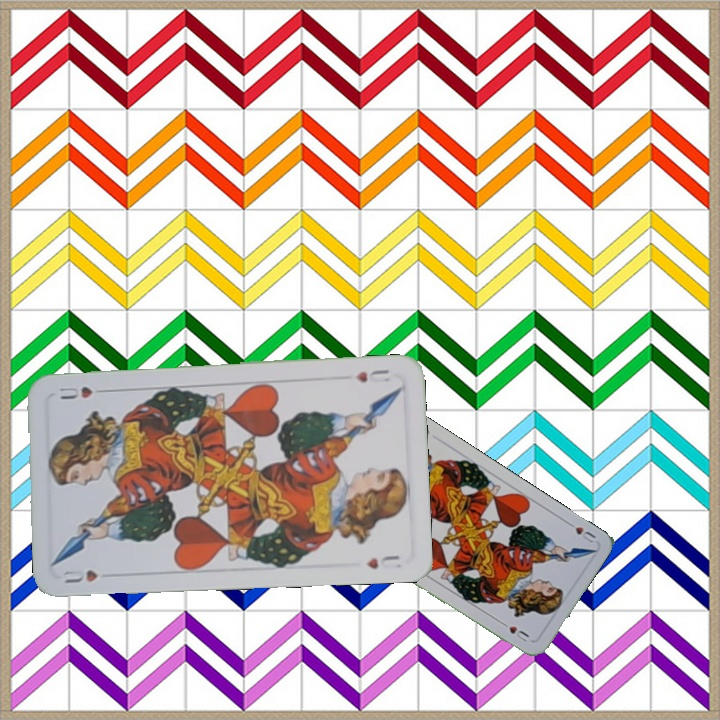HU: (562, 517, 599, 545), (59, 565, 101, 586), (351, 366, 393, 385)
